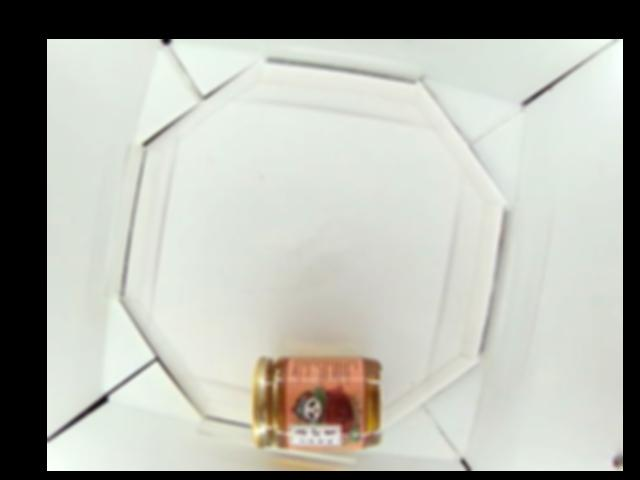Bottle: (251, 353, 382, 451)
